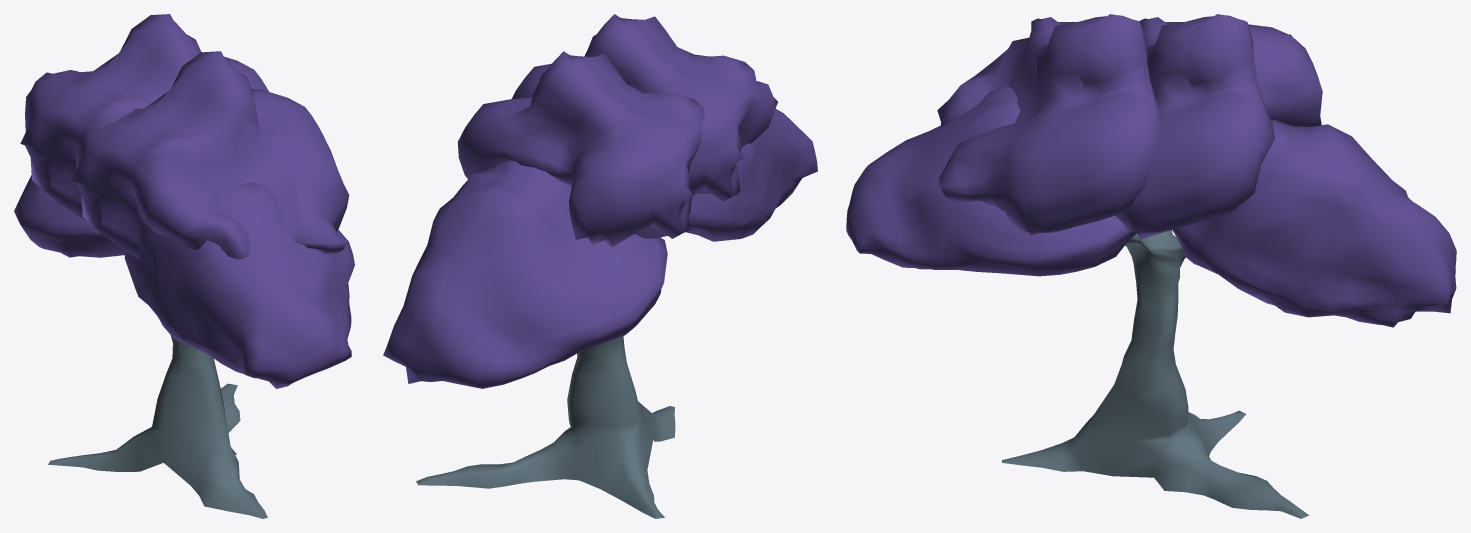
Rendered from Arbol Final Grande.fbx.
The picture shows the model from 3 angles, left to right: view 1: azimuth 30°, elevation 25°; view 2: azimuth 150°, elevation 25°; view 3: azimuth 270°, elevation 25°; orthographic projection. The views are drawn at different scales.
Visible parts, largest first — view 1: polySurface66; view 2: polySurface66; view 3: polySurface66.
Part boxes in pixels (x1,y1,x2,y2): polySurface66: (14, 14, 354, 518); polySurface66: (383, 14, 817, 518); polySurface66: (846, 14, 1456, 518).
Size of the model in its own units: 470 by 789 by 954.
